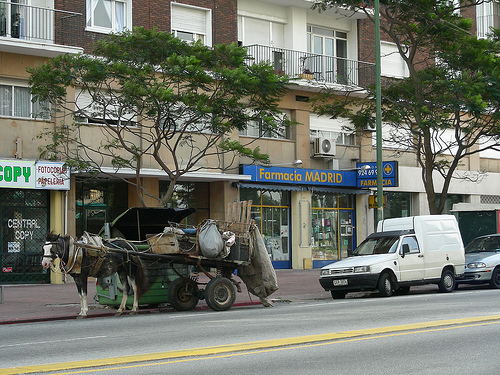horse: (42, 232, 145, 319)
